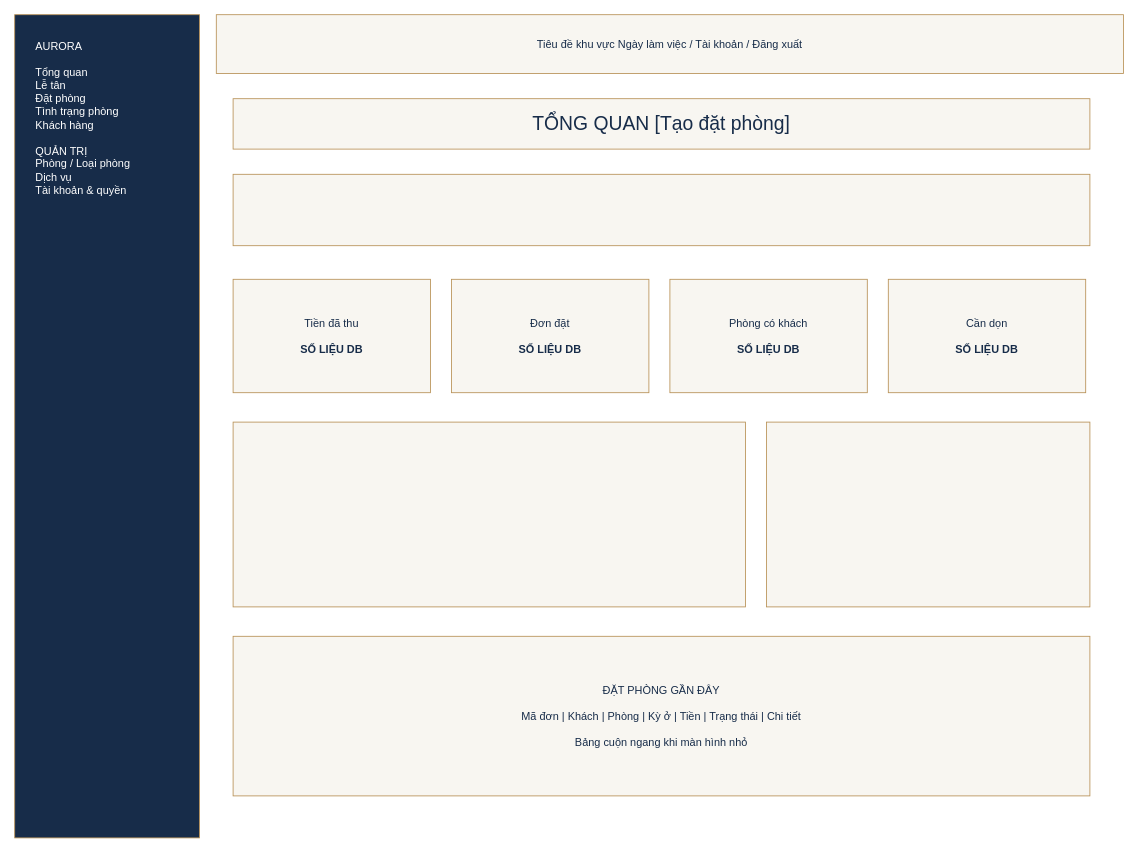
Some shapes in this 1138 by 853 pixel diagram are drawn without their labels. Here are the shapes that lost their labels. From the top down, the box of each, then its label:
(232, 173, 1090, 246): KHOẢNG BÁO CÁO [Từ ngày] [Đến ngày] [Áp dụng]
(232, 421, 746, 607): PHÂN BỐ TRẠNG THÁI ĐƠN
(766, 421, 1090, 607): THAO TÁC NHANH Lễ tân / Room Board
